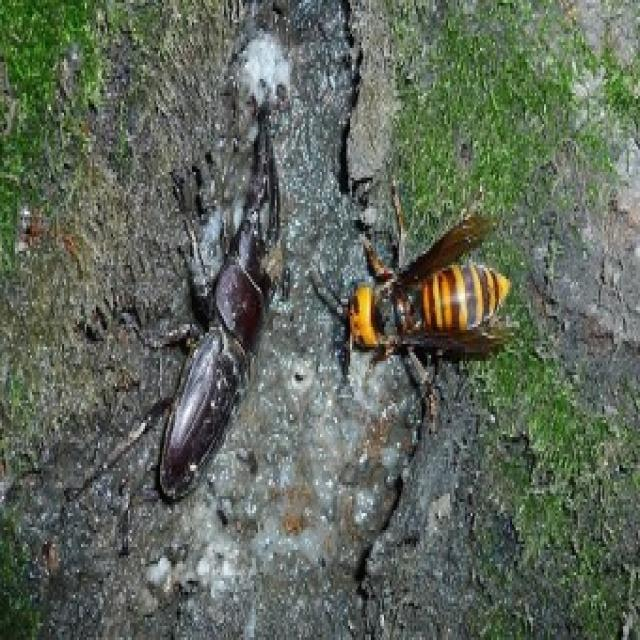Wasp: (339, 192, 525, 362)
